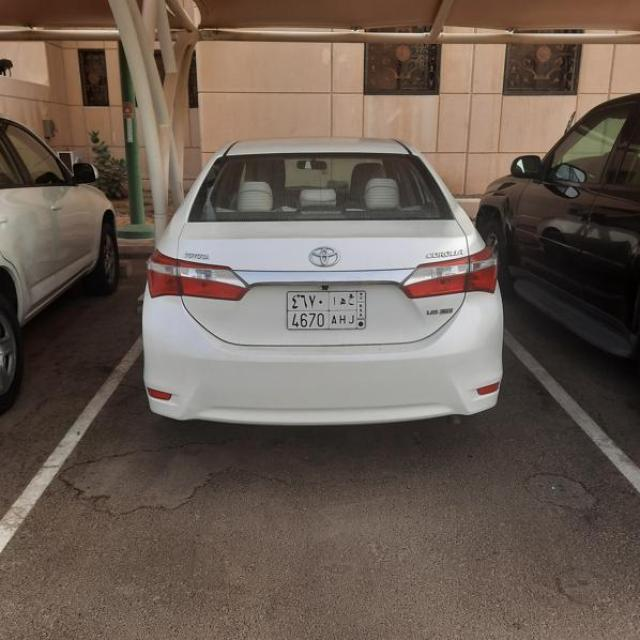license_plate: (286, 290, 367, 330)
